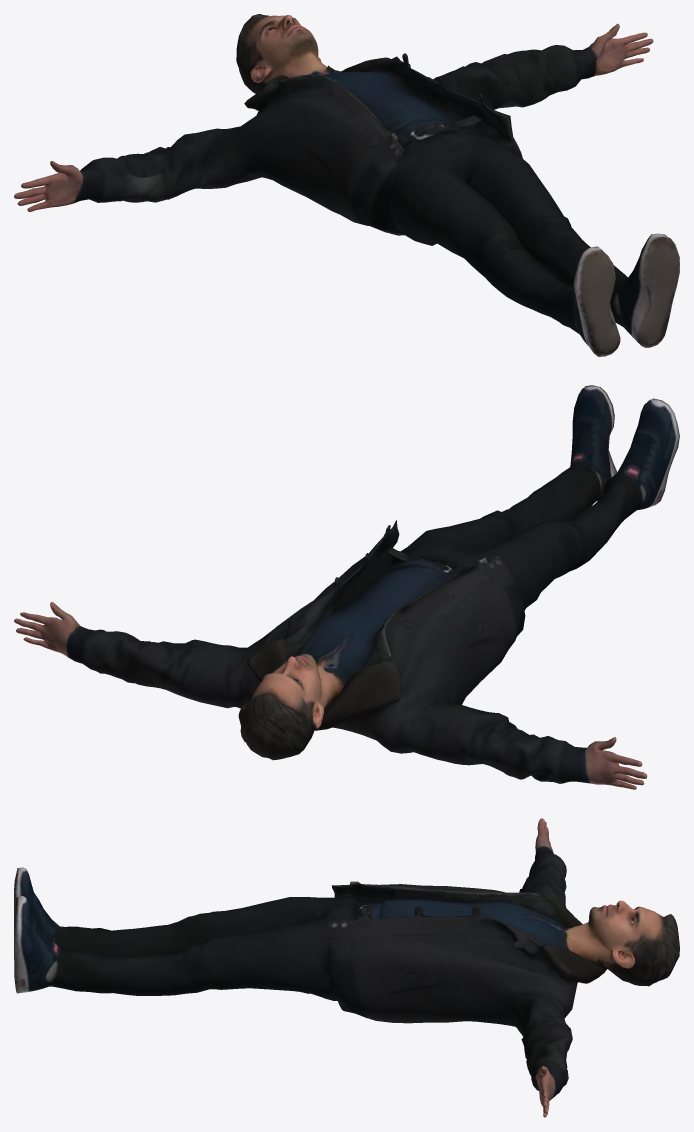
Rendered from person-animated.glb.
The picture shows the model from 3 angles, top to bottom: view 1: azimuth 30°, elevation 25°; view 2: azimuth 150°, elevation 25°; view 3: azimuth 270°, elevation 25°; orthographic projection. The views are drawn at different scales.
Visible parts, largest first — view 1: _; view 2: _; view 3: _.
Boxes of the visible parts, left/top/right/bottom form: _: left=14, top=14, right=679, bottom=356; _: left=14, top=385, right=679, bottom=789; _: left=14, top=818, right=679, bottom=1117.
Bounding box in the file's own units: 8.61 × 1.78 × 8.71.
1 material, 1 textured.
